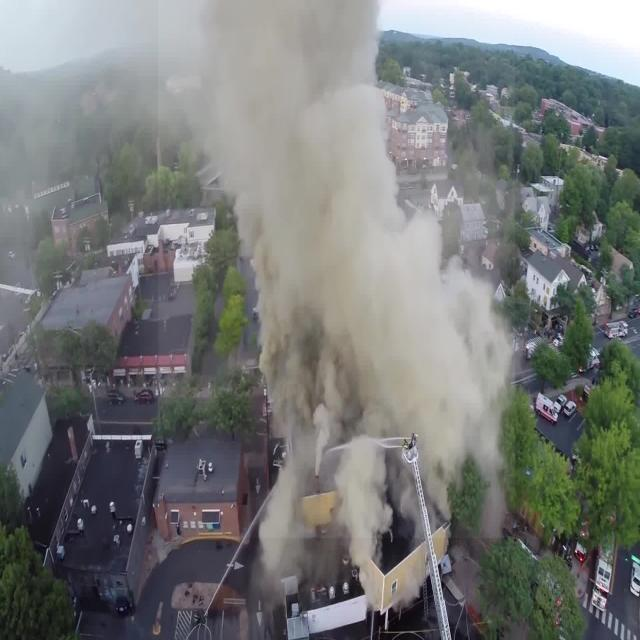Smoke: (158, 0, 515, 538)
